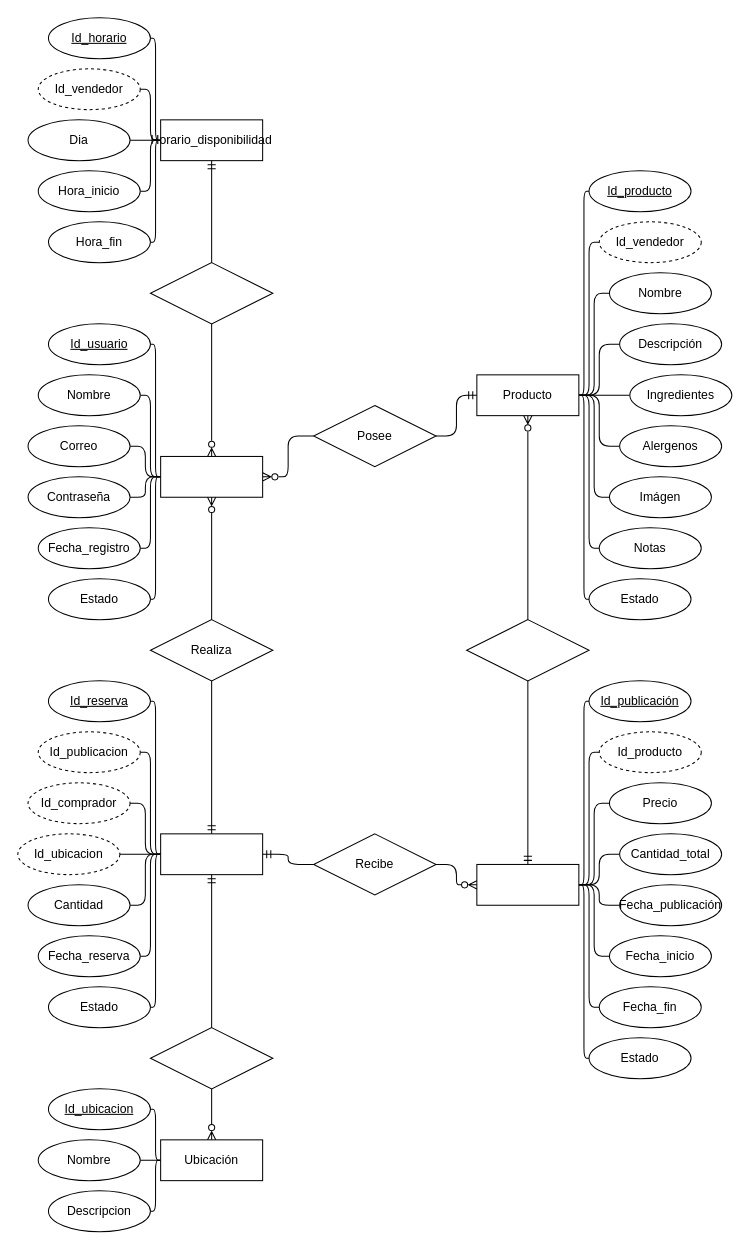
Some shapes in this 750 by 1250 pixel diagram are drawn without their labels. Each missing label, with the centre of its shape:
Es_utilizada_en: the point at 211,1058
Establece: the point at 211,293
Publicación: the point at 527,884
Reserva: the point at 211,854
Se_publica_como: the point at 527,650
Usuario: the point at 211,476
